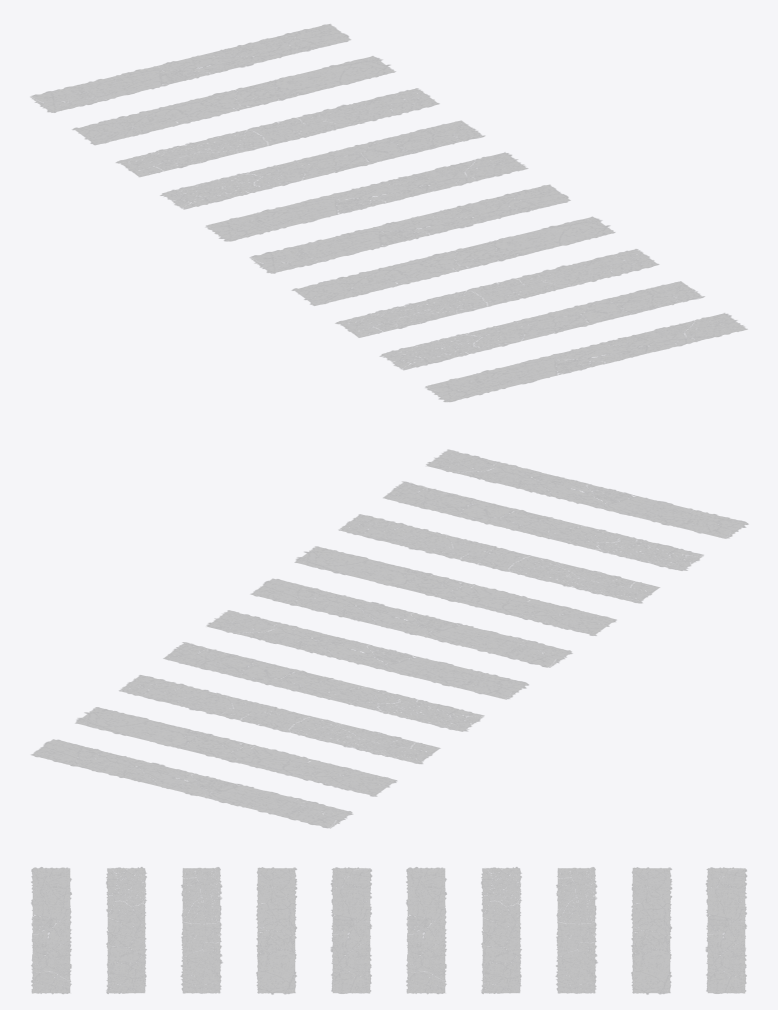
File: S_DecalCrosswalkWide.gltf
The picture shows the model from 3 angles, top to bottom: view 1: azimuth 30°, elevation 25°; view 2: azimuth 150°, elevation 25°; view 3: azimuth 270°, elevation 25°; orthographic projection. The views are drawn at different scales.
Parts seen in each view (by area): view 1: Plane_003; view 2: Plane_003; view 3: Plane_003.
Boxes of the visible parts, left/top/right/bottom form: Plane_003: left=30, top=24, right=747, bottom=401; Plane_003: left=31, top=449, right=748, bottom=828; Plane_003: left=31, top=867, right=746, bottom=994.
Bounding box in the file's own units: 4.67 × 8.64e-07 × 11.42.
Materials: 1 (1 with a texture image).
